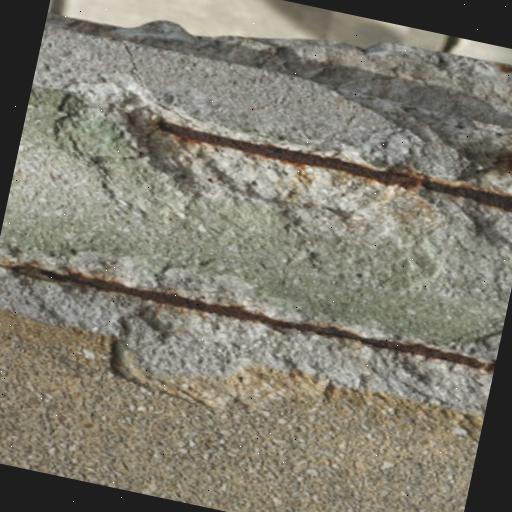spalling: (33, 62, 512, 287), (0, 219, 503, 418)
